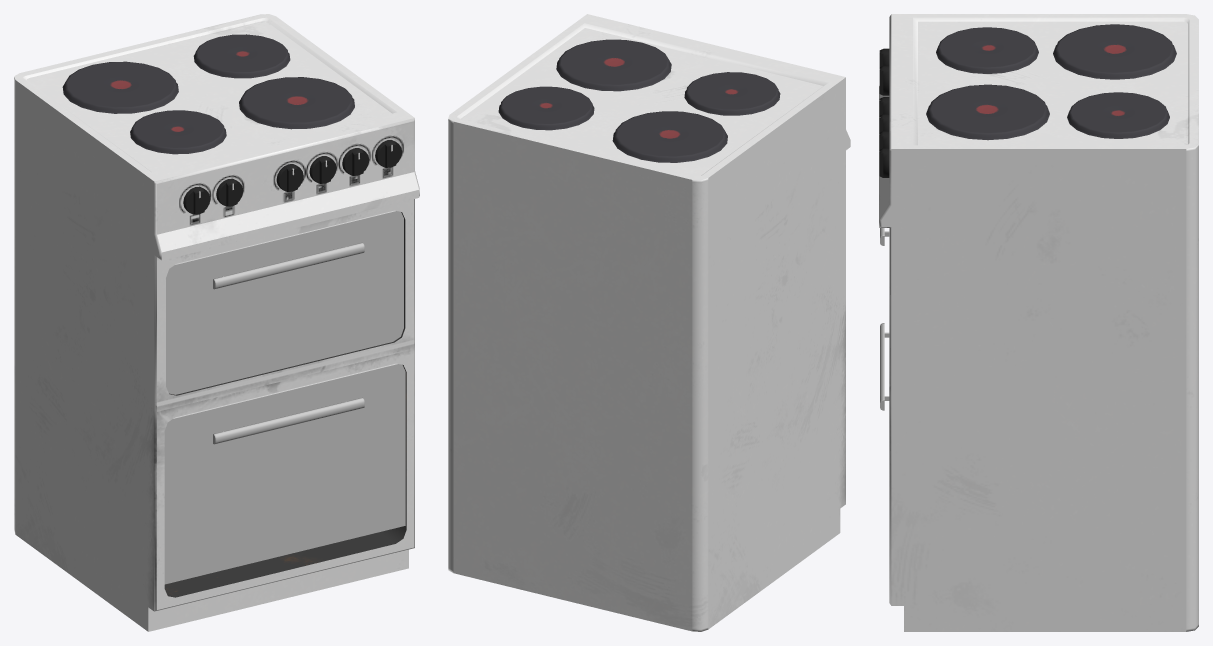
The picture shows the model from 3 angles, left to right: view 1: azimuth 30°, elevation 25°; view 2: azimuth 150°, elevation 25°; view 3: azimuth 270°, elevation 25°; orthographic projection. The views are drawn at different scales.
Parts seen in each view (by area): view 1: SM_MERGED_StaticMeshActor_UAID_C4EFBB4DF741A59502_2096135888; view 2: SM_MERGED_StaticMeshActor_UAID_C4EFBB4DF741A59502_2096135888; view 3: SM_MERGED_StaticMeshActor_UAID_C4EFBB4DF741A59502_2096135888.
Boxes of the visible parts, left/top/right/bottom form: SM_MERGED_StaticMeshActor_UAID_C4EFBB4DF741A59502_2096135888: left=14, top=14, right=419, bottom=631; SM_MERGED_StaticMeshActor_UAID_C4EFBB4DF741A59502_2096135888: left=448, top=14, right=850, bottom=631; SM_MERGED_StaticMeshActor_UAID_C4EFBB4DF741A59502_2096135888: left=879, top=14, right=1198, bottom=631.
Size of what is drawn, in the model's own units: 60 by 60 by 101.
